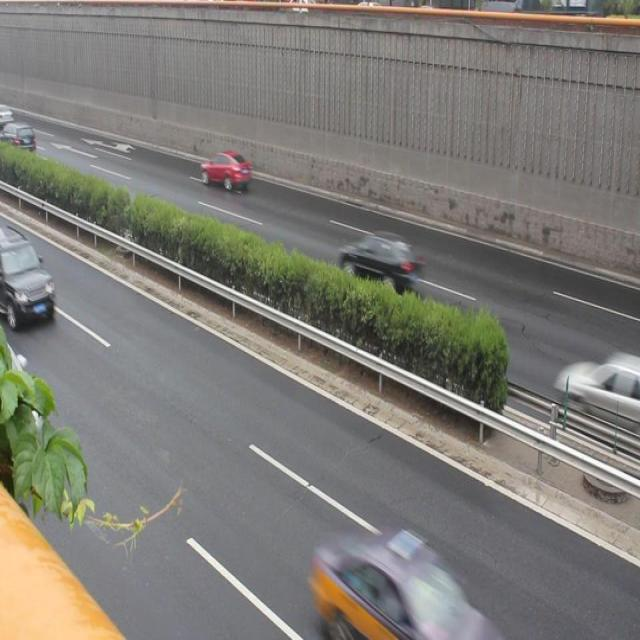car: (308, 519, 494, 640), (1, 227, 57, 332), (334, 226, 420, 294), (197, 149, 254, 197)
